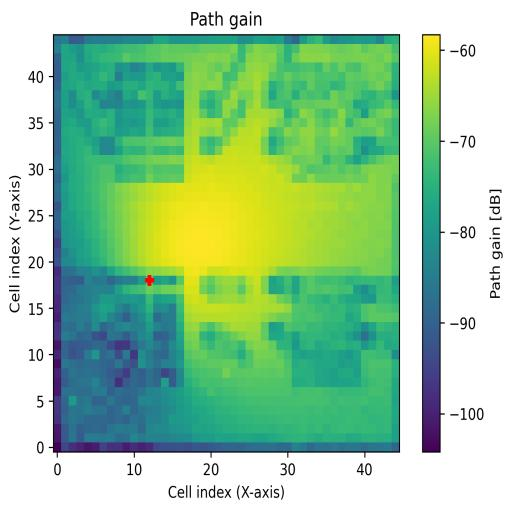Concrete: (284, 63, 369, 183)
Glass: (114, 62, 185, 183)
Metal: (293, 276, 363, 388)
Wood: (91, 268, 184, 386)
